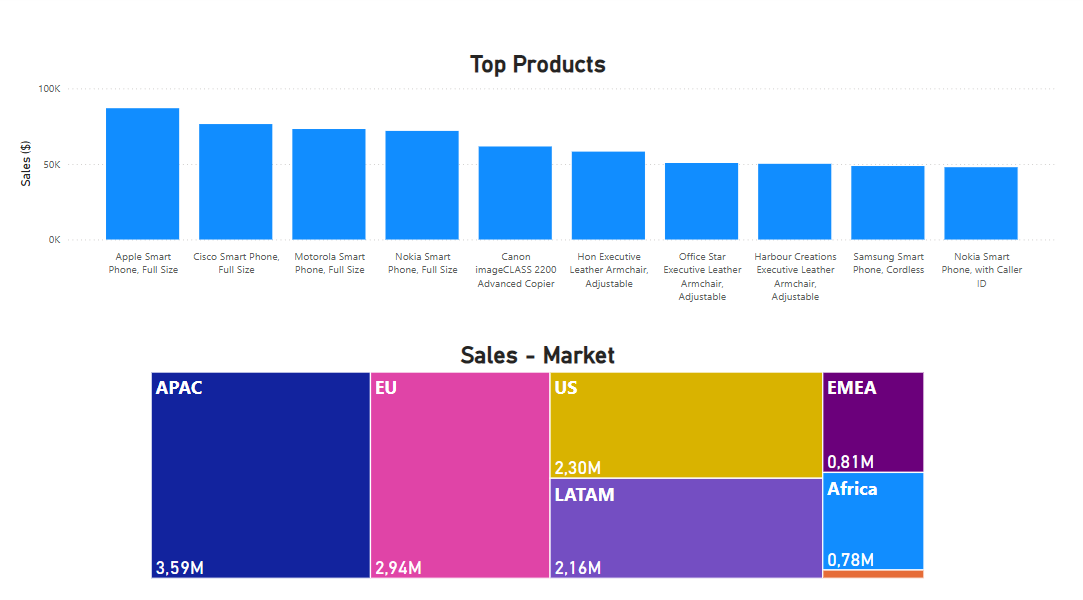

The page's visual inventory and layout, read from the dashboard file:
{"tool":"powerbi","page":{"name":"Top Products & Regional Insights","canvas":[1280,720],"ordinal":3},"visuals":[{"type":"clusteredColumnChart","title":"Top Products","fields":{"Category":["Global_Superstore2.Product Name"],"Y":["Sum(Global_Superstore2.Sales)"]},"box":[22.1,66.2,1231.7,306.1],"z":0},{"type":"treemap","title":"Sales - Market","fields":{"Group":["Global_Superstore2.Market"],"Values":["Sum(Global_Superstore2.Sales)"]},"box":[178.1,409.1,919.8,284],"z":1000}]}

Visuals, with their boxes in screenshot pixels (x1, y1, x2, y2), scaled from the page's 1280x720 canvas onto the 1083x600 screenshot:
"Top Products" clusteredColumnChart: <bbox>19, 55, 1061, 310</bbox>
"Sales - Market" treemap: <bbox>151, 341, 929, 578</bbox>
